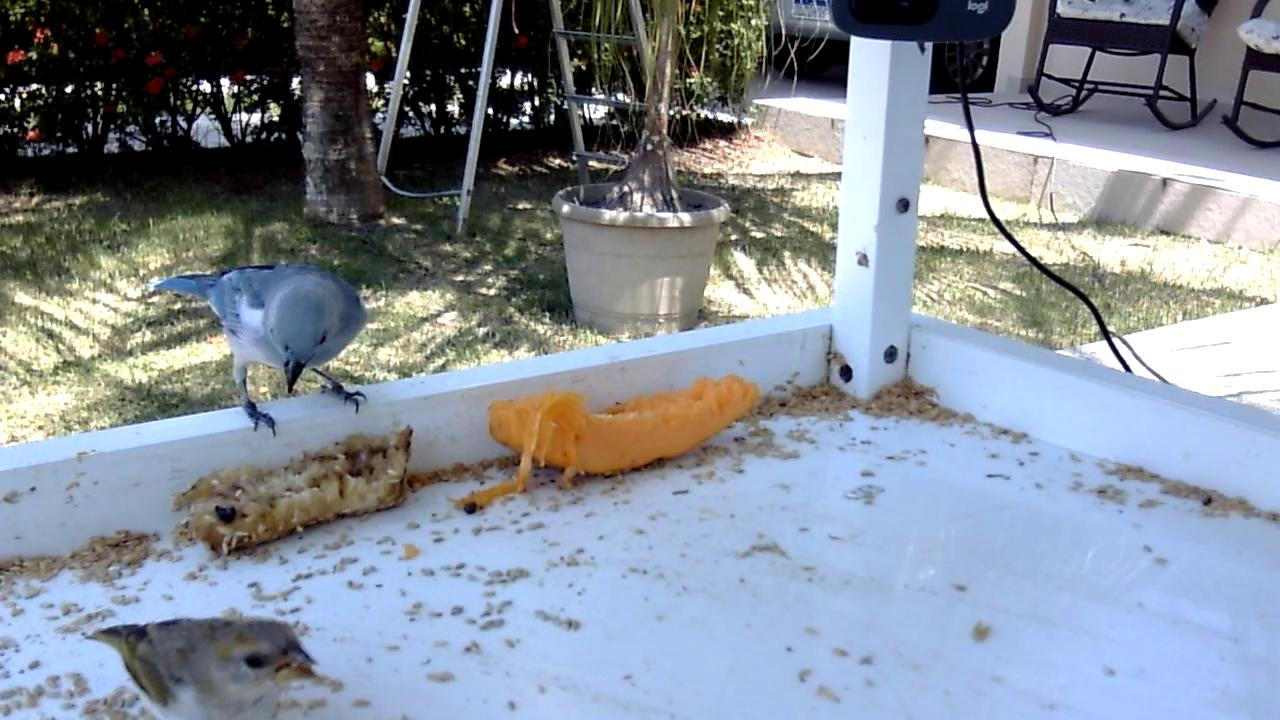canario_do_amazonas: (85, 612, 320, 720)
sanhaco_da_amazonia: (148, 258, 371, 439)
